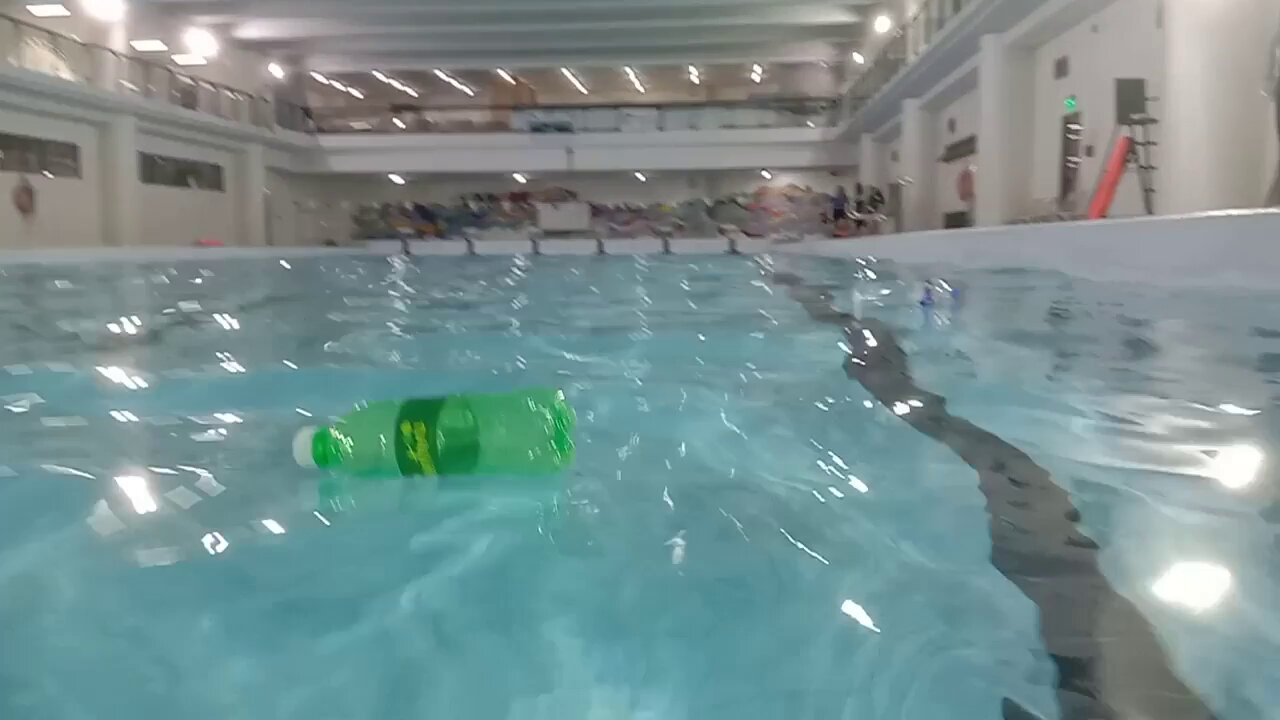plastic_bottle: (293, 389, 576, 475), (848, 276, 961, 313)
